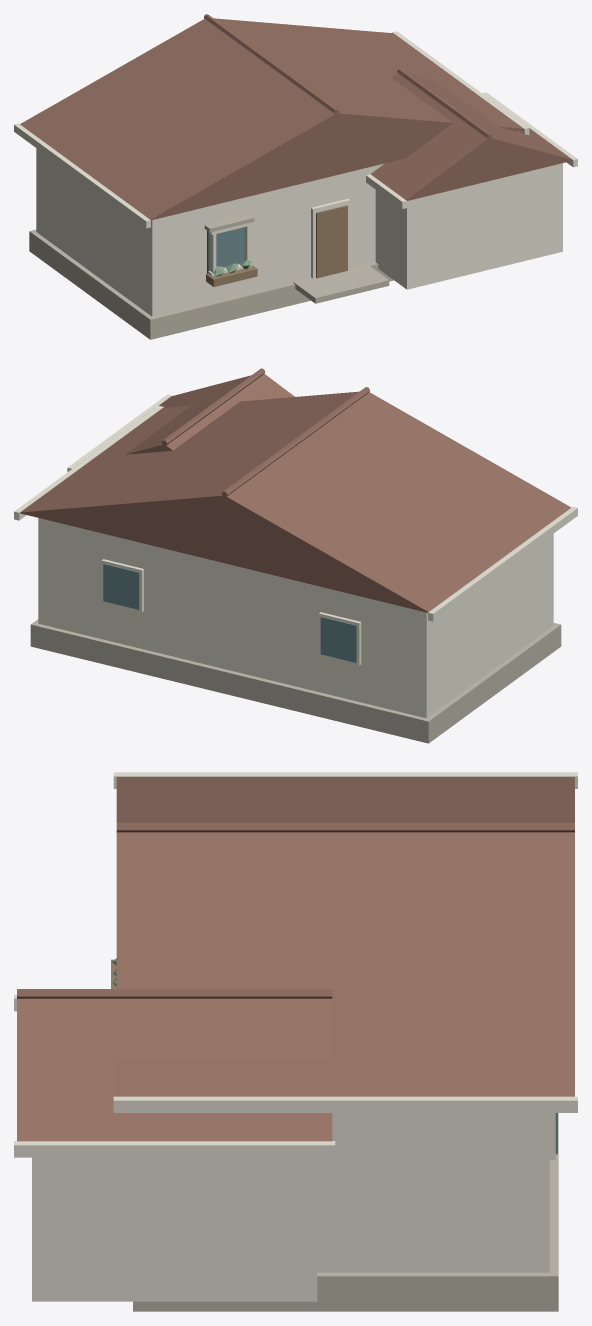
3 renders of one model, top to bottom at view 1: azimuth 30°, elevation 25°; view 2: azimuth 150°, elevation 25°; view 3: azimuth 270°, elevation 25°, orthographic. The views are drawn at different scales.
Bounding box in the file's own units: 13.65 × 6.11 × 9.41.
